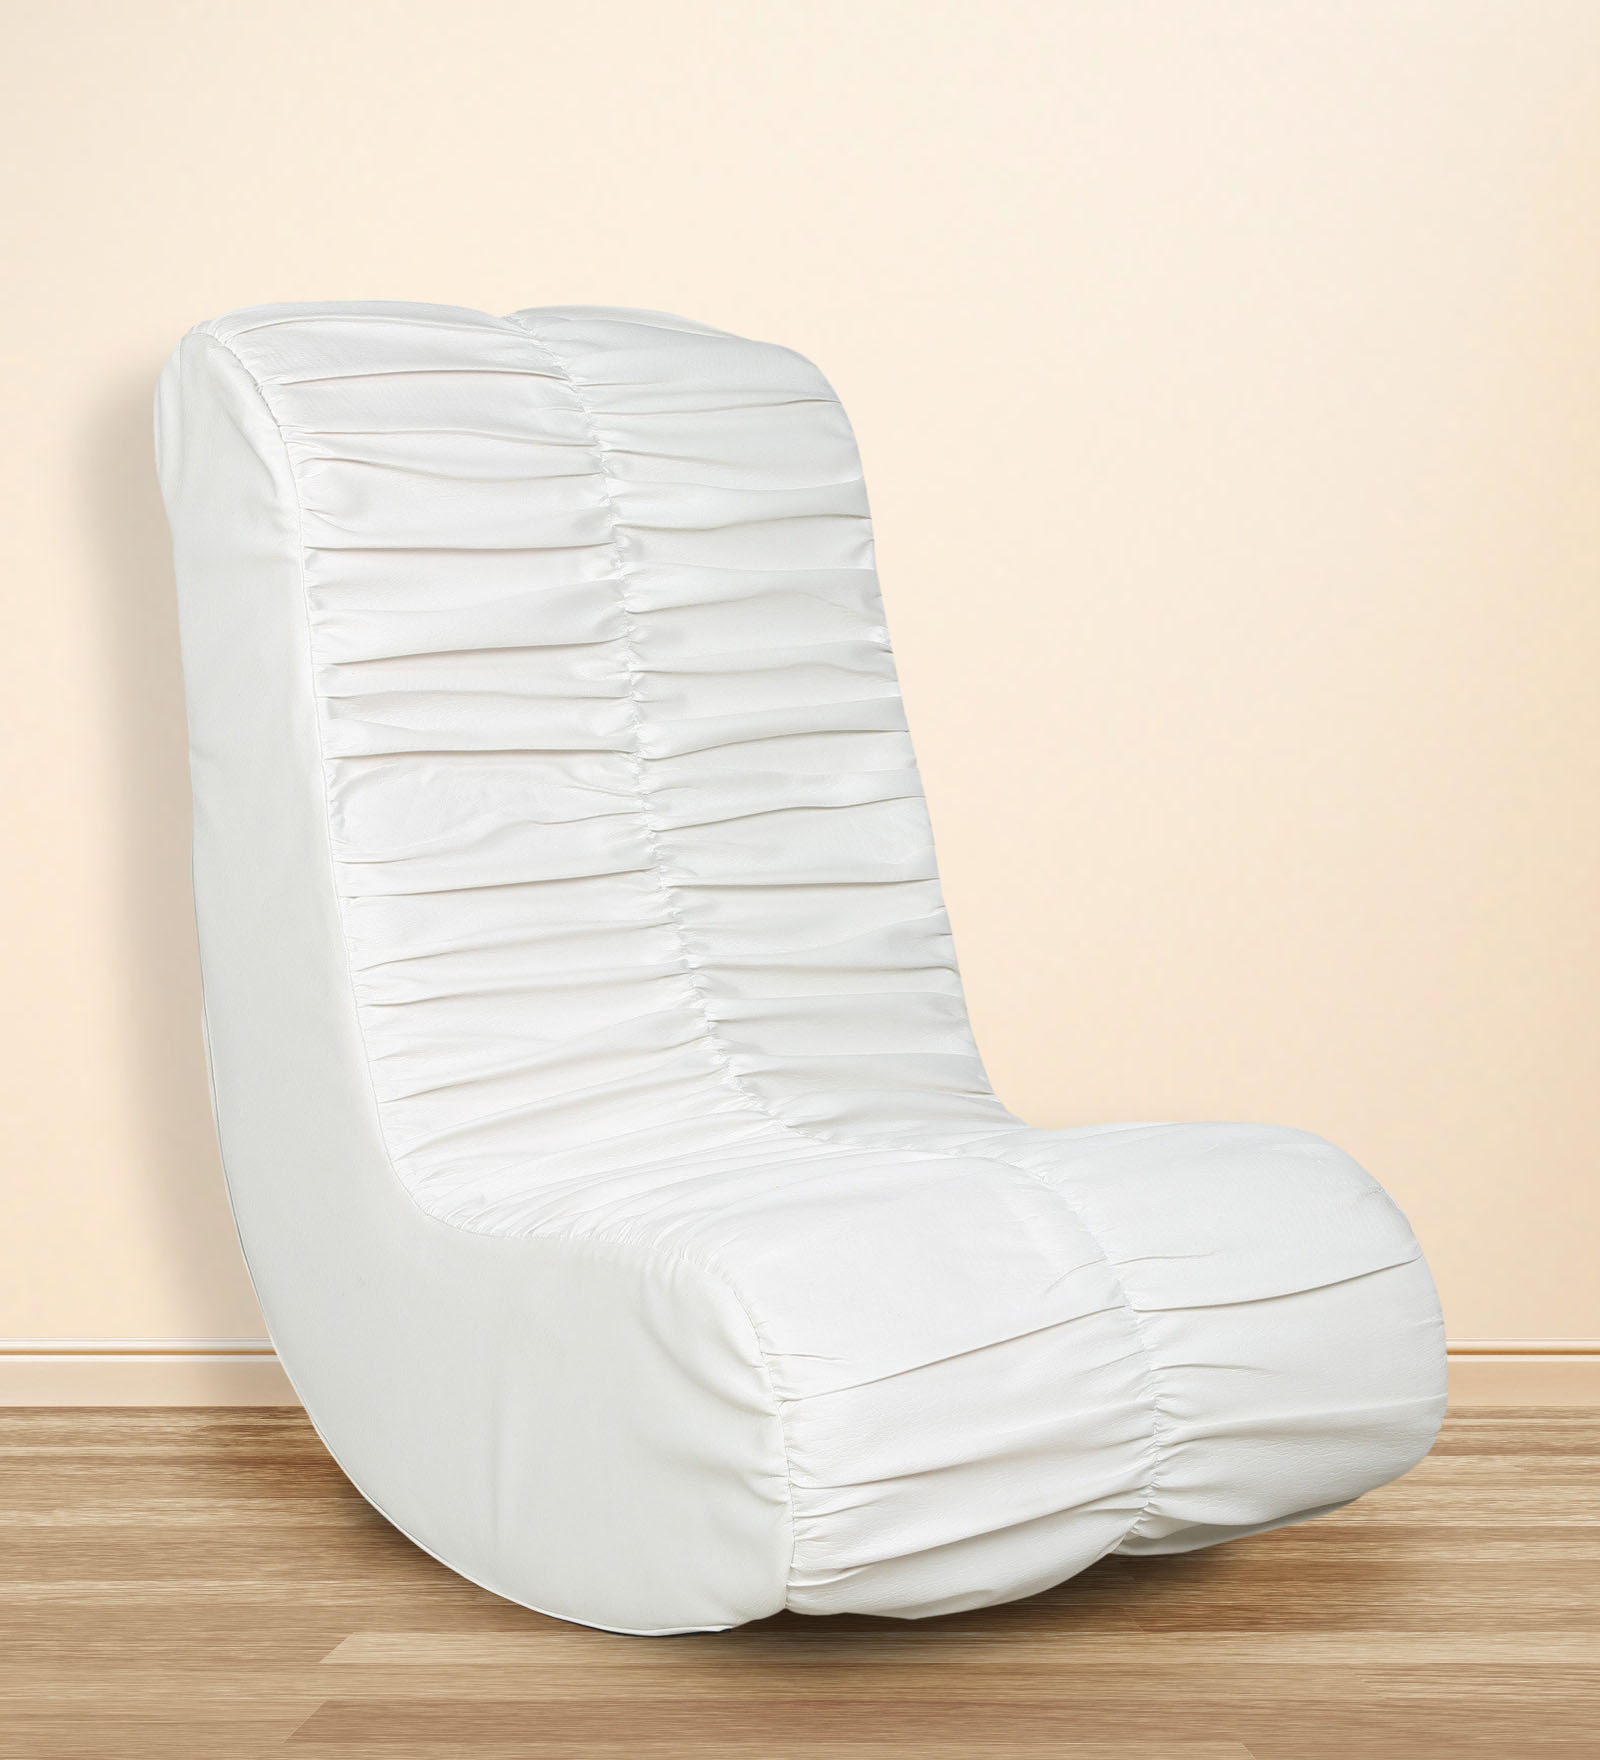Daisy Rocking Chair in White Colour by Parin: (141, 253, 1448, 1642)
